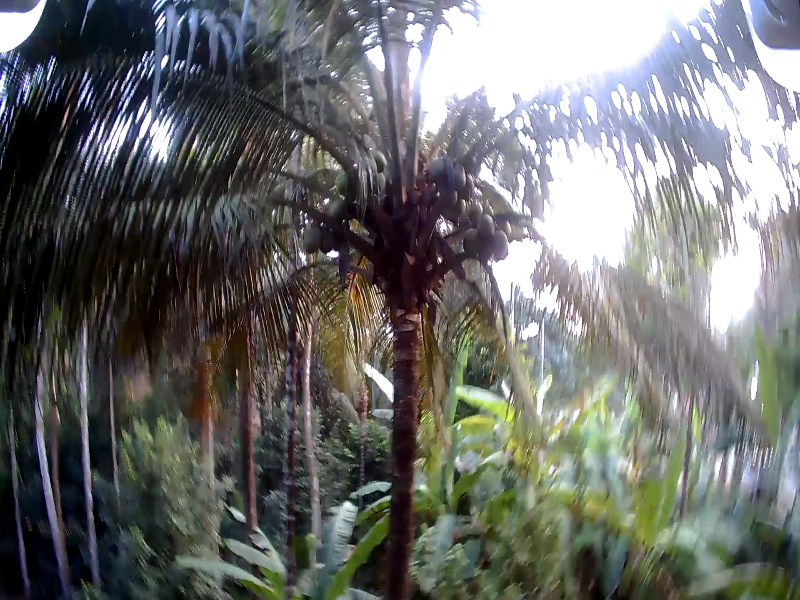coconut: (302, 225, 326, 252), (493, 229, 508, 260), (450, 162, 466, 190), (478, 214, 492, 241), (368, 151, 385, 172), (443, 160, 456, 185), (460, 233, 475, 254), (443, 188, 460, 206), (367, 173, 385, 189), (428, 159, 441, 180), (330, 200, 345, 215), (339, 175, 354, 190), (457, 218, 468, 230)
